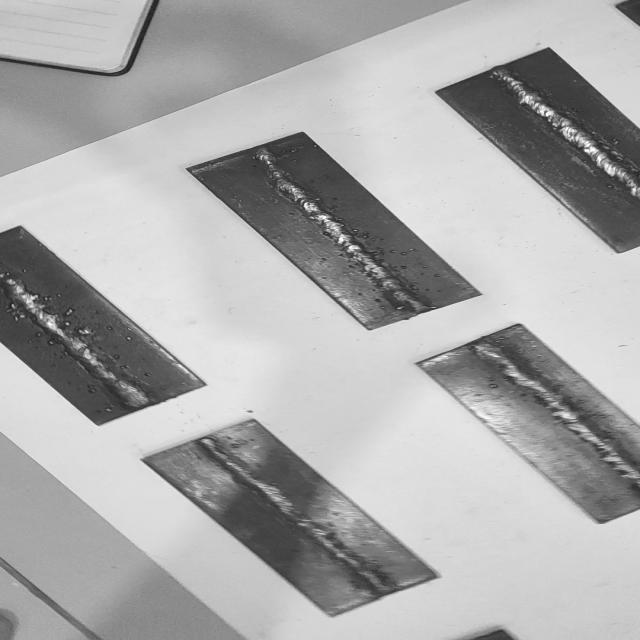Bad Weld: (0, 267, 161, 414)
Defect: (30, 319, 107, 349)
Good Weld: (192, 432, 397, 596), (246, 147, 434, 315), (488, 63, 640, 207)
